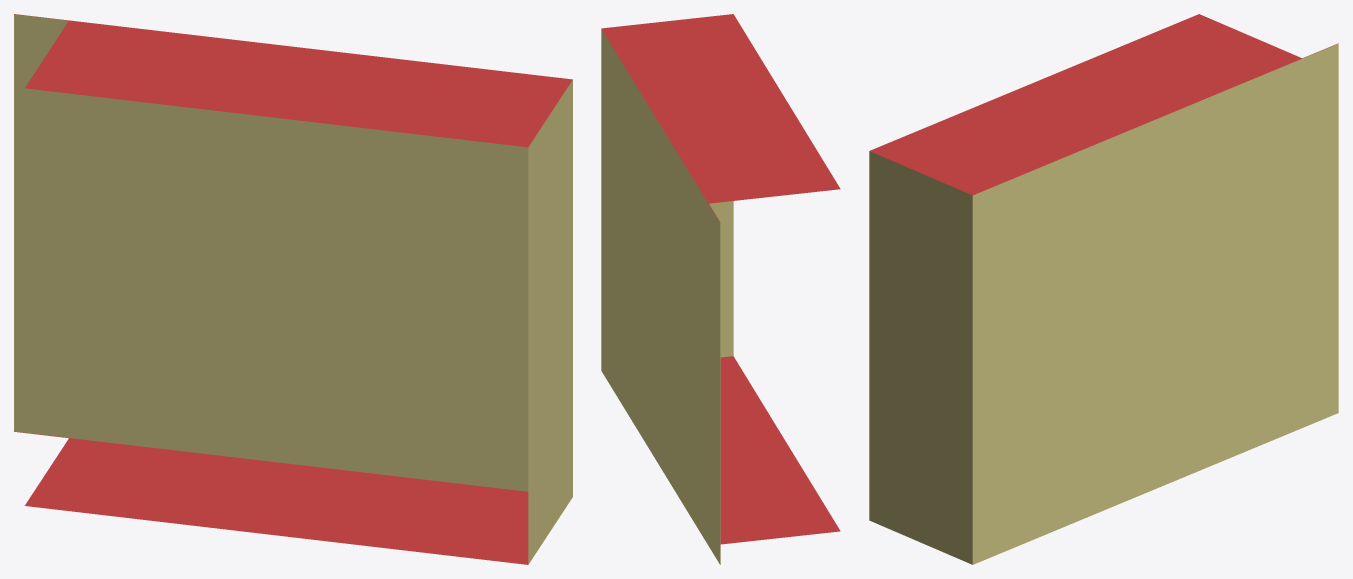
The picture shows the model from 3 angles, left to right: view 1: azimuth 30°, elevation 25°; view 2: azimuth 150°, elevation 25°; view 3: azimuth 270°, elevation 25°; orthographic projection. The views are drawn at different scales.
Visible parts, largest first — view 1: group_4, group_3, group_5; view 2: group_4, group_3, group_5; view 3: group_4, group_3.
Boxes of the visible parts, left/top/right/bottom form: group_4: left=14, top=14, right=572, bottom=564; group_3: left=14, top=14, right=572, bottom=147; group_5: left=14, top=431, right=528, bottom=564; group_4: left=601, top=29, right=733, bottom=564; group_3: left=601, top=14, right=840, bottom=222; group_5: left=720, top=356, right=840, bottom=544; group_4: left=869, top=43, right=1338, bottom=564; group_3: left=870, top=14, right=1338, bottom=195.
Bounding box in the file's own units: 10.08 × 11.02 × 9.57.
